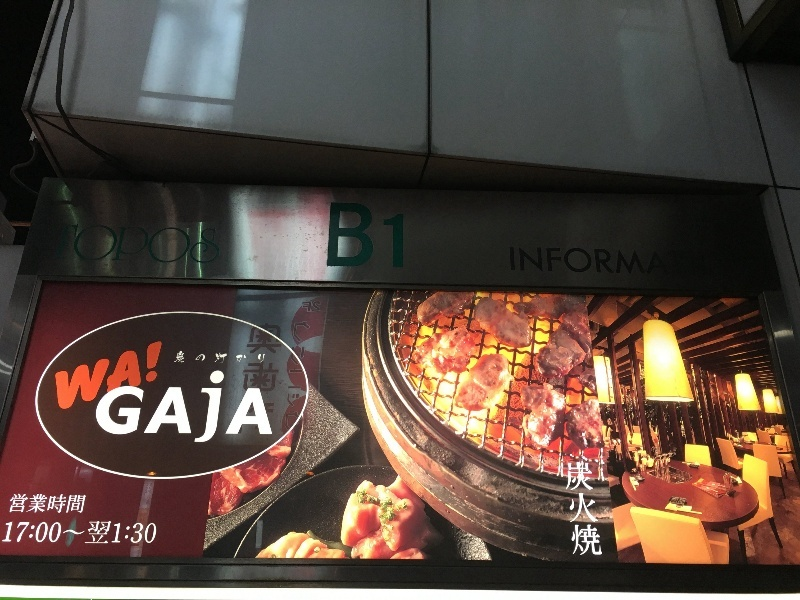text: (257, 323, 272, 435), (577, 462, 592, 556), (294, 320, 304, 436), (113, 369, 128, 446), (129, 369, 144, 446), (145, 369, 160, 446), (161, 369, 176, 446), (177, 369, 192, 446), (193, 369, 208, 446), (209, 369, 224, 446), (225, 369, 240, 446), (241, 369, 256, 446), (257, 369, 272, 446), (593, 462, 605, 556), (273, 323, 283, 435), (65, 341, 80, 412), (81, 341, 96, 412), (97, 341, 112, 412), (113, 341, 128, 412), (129, 341, 144, 412), (145, 341, 160, 412), (337, 201, 352, 271), (353, 201, 368, 271), (369, 201, 384, 271), (385, 201, 400, 271), (52, 341, 64, 412), (567, 462, 576, 556), (102, 369, 112, 446), (305, 320, 311, 436), (65, 222, 80, 265), (81, 222, 96, 265), (97, 222, 112, 265), (113, 222, 128, 265), (129, 222, 144, 265), (145, 222, 160, 265), (161, 222, 176, 265), (177, 222, 192, 265), (193, 222, 208, 265), (50, 222, 64, 265), (328, 201, 336, 271), (251, 323, 256, 435), (513, 245, 528, 280), (529, 245, 544, 280), (545, 245, 560, 280), (561, 245, 576, 280), (577, 245, 592, 280), (593, 245, 608, 280), (609, 245, 624, 280), (625, 245, 640, 280), (641, 245, 656, 280), (657, 245, 672, 280), (209, 222, 220, 265), (17, 521, 32, 546), (33, 521, 48, 546), (49, 521, 64, 546), (65, 521, 80, 546), (81, 521, 96, 546), (97, 521, 112, 546), (113, 521, 128, 546), (129, 521, 144, 546), (17, 493, 32, 515), (33, 493, 48, 515), (49, 493, 64, 515), (65, 493, 80, 515), (145, 521, 158, 546), (146, 483, 160, 506), (5, 521, 16, 546), (401, 201, 404, 271), (177, 351, 192, 365), (193, 351, 208, 365), (209, 351, 224, 365), (225, 351, 240, 365), (241, 351, 256, 365), (305, 301, 321, 313), (273, 369, 275, 446), (161, 341, 163, 412), (508, 245, 512, 280), (81, 493, 87, 515), (257, 351, 265, 365), (11, 493, 16, 515), (673, 245, 675, 280), (302, 301, 304, 313)
